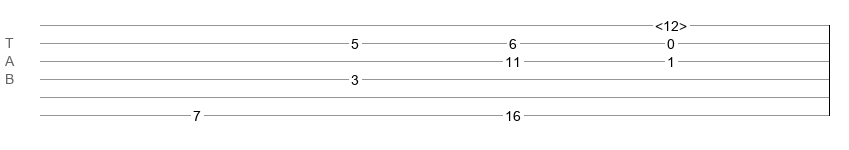0: (667, 36, 675, 46)
1: (667, 54, 675, 64)
11: (505, 54, 521, 64)
16: (505, 108, 521, 118)
3: (351, 72, 359, 82)
5: (351, 36, 359, 46)
6: (509, 36, 517, 46)
7: (193, 108, 201, 118)
harmonic: (655, 18, 687, 28)
